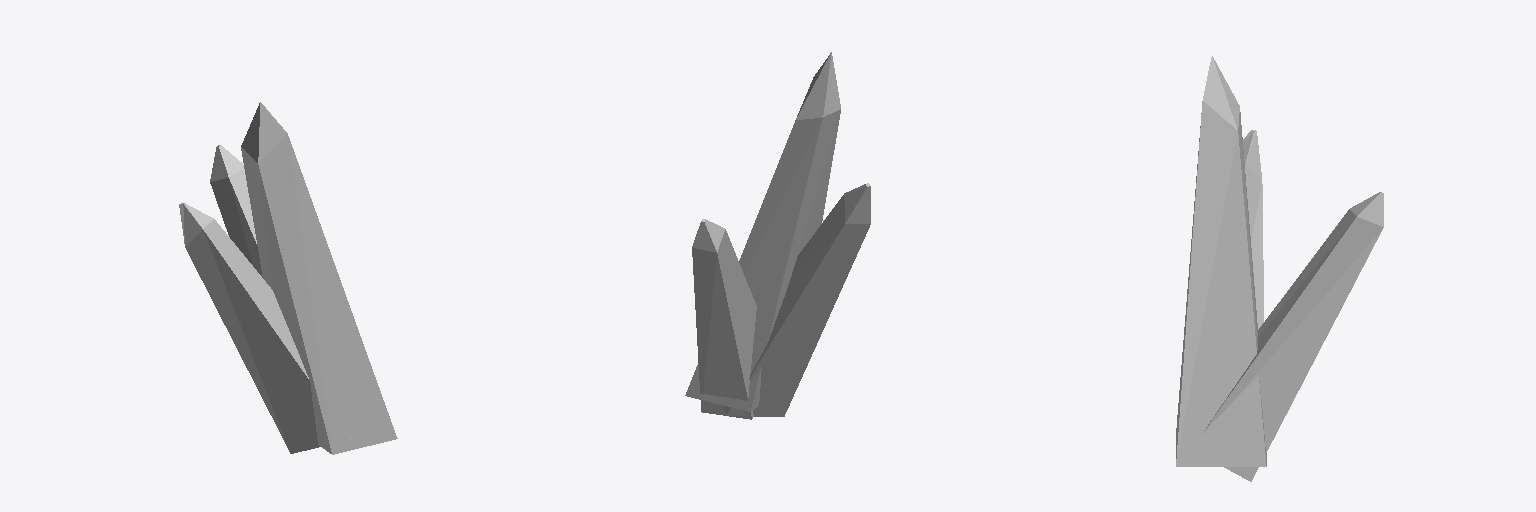
The model's file is tree2_obj.obj.
3 views of the same model, side by side, from view 1: azimuth 30°, elevation 25°; view 2: azimuth 150°, elevation 25°; view 3: azimuth 270°, elevation 25° (orthographic).
Parts seen in each view (by area): view 1: Box001; view 2: Box001; view 3: Box001.
Boxes of the visible parts, x1,y1,x2,y2 form: Box001: [179, 102, 397, 454]; Box001: [685, 52, 870, 419]; Box001: [1176, 56, 1383, 481].
Size of the model in its own units: 20.39 by 40.57 by 20.48.